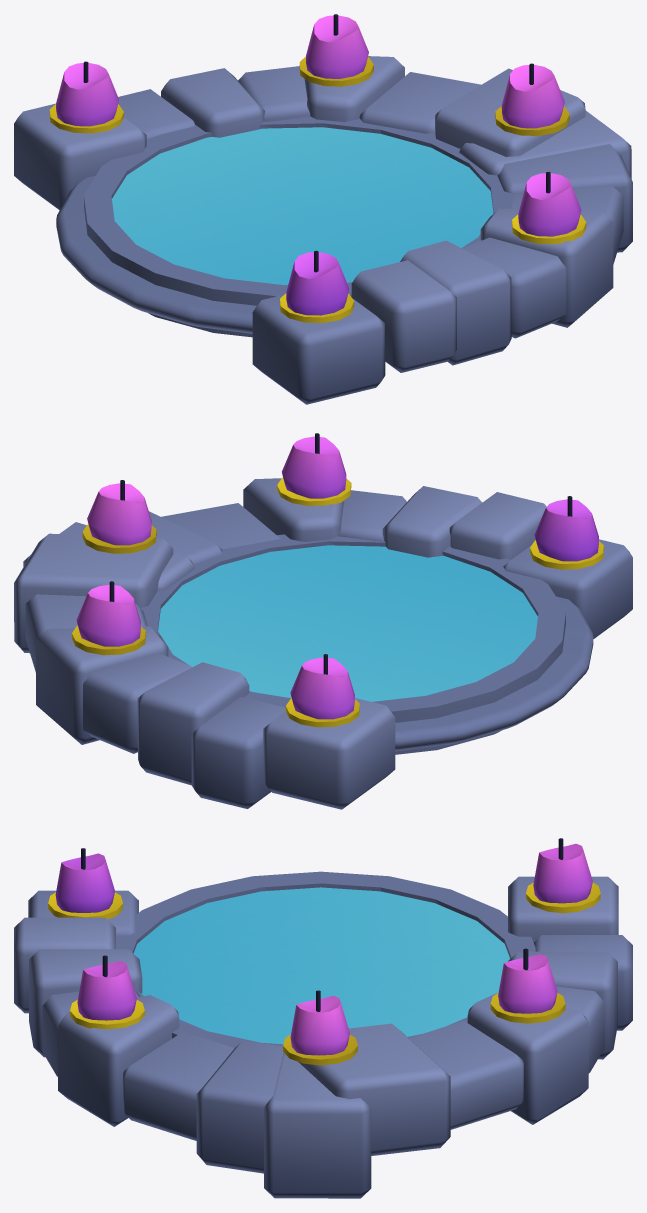
The model's file is portal_03.fbx.
3 views of the same model, one above another, from view 1: azimuth 30°, elevation 25°; view 2: azimuth 150°, elevation 25°; view 3: azimuth 270°, elevation 25° (orthographic).
Parts seen in each view (by area): view 1: frame, portal; view 2: frame, portal; view 3: frame, portal.
Part boxes in pixels (x1,y1,x2,y2): frame: (14, 14, 632, 404); portal: (112, 127, 493, 284); frame: (14, 433, 632, 809); portal: (158, 545, 537, 701); frame: (14, 838, 632, 1198); portal: (133, 887, 510, 1044).
Size of the model in its own units: 6.24 by 1.97 by 6.4.
